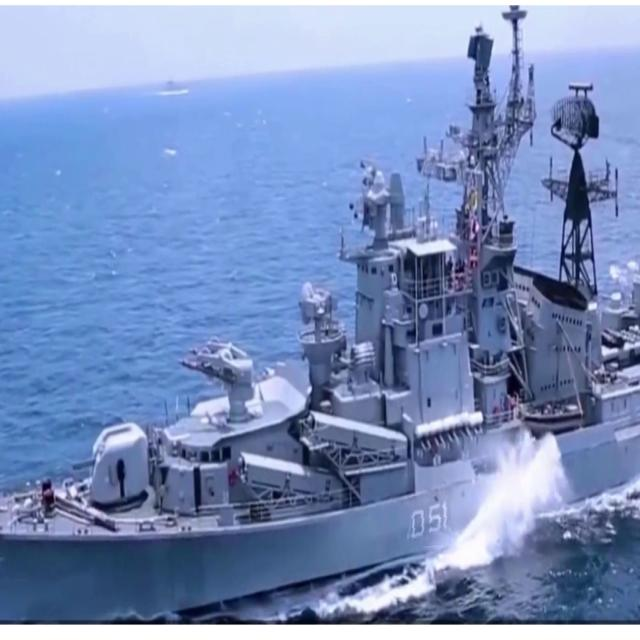OCR: (404, 496, 451, 547)
